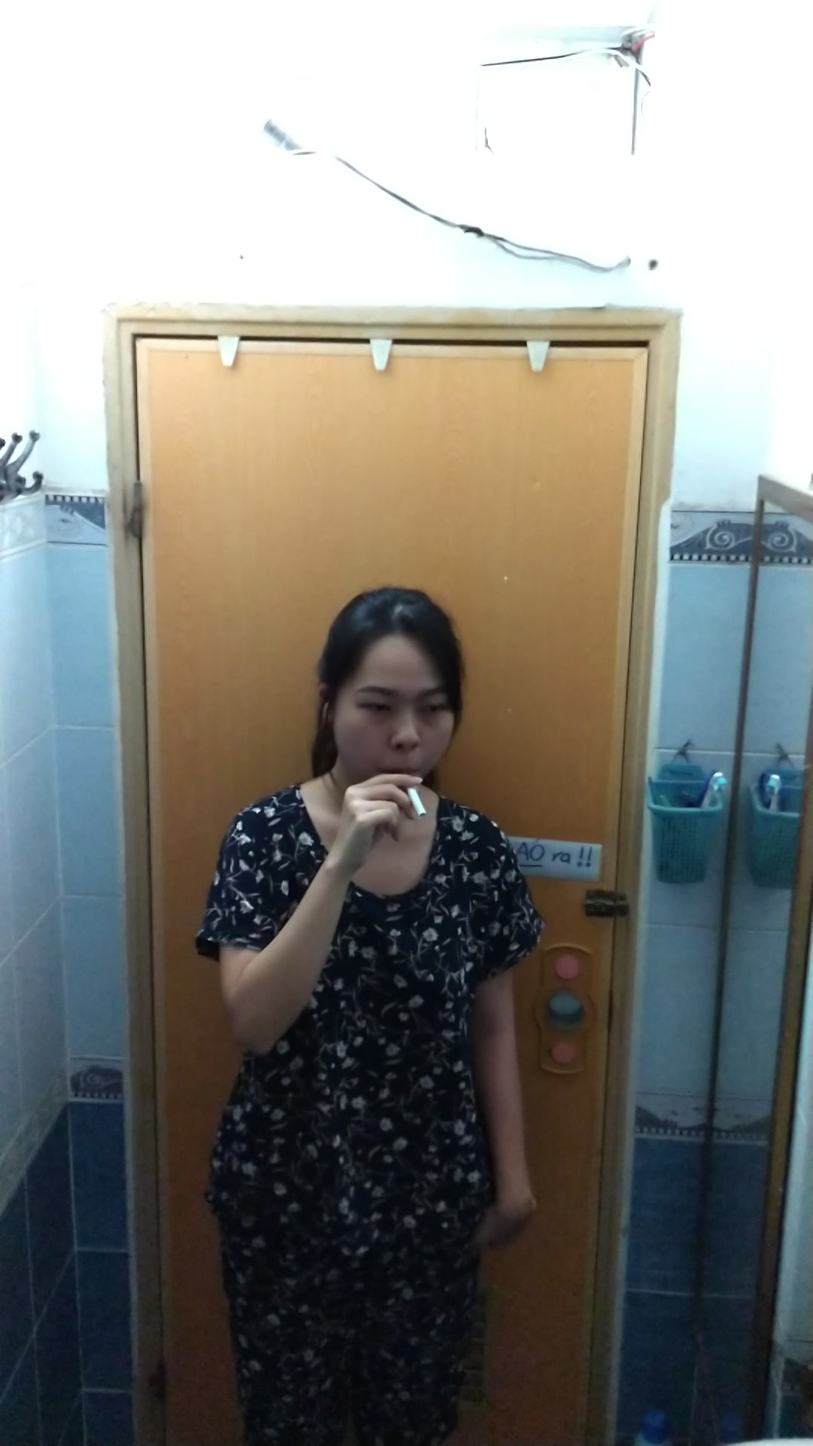cigarette: (403, 786, 430, 822)
person: (190, 584, 552, 1446)
